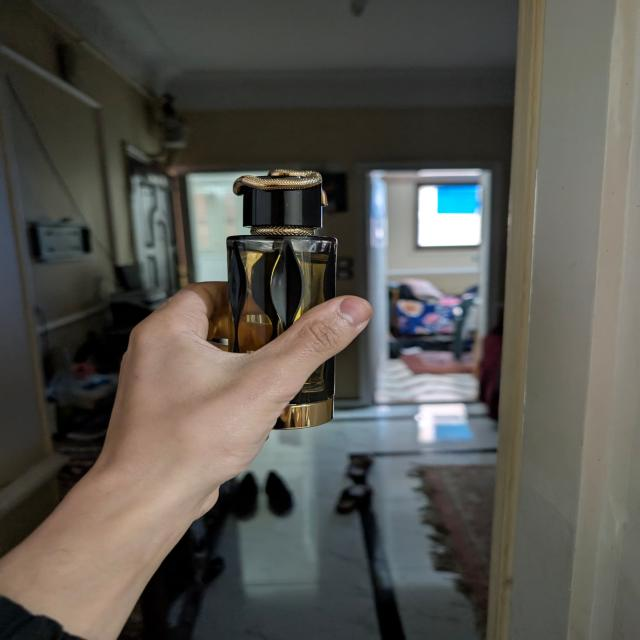Teriaq-Intense: (220, 167, 342, 432)
